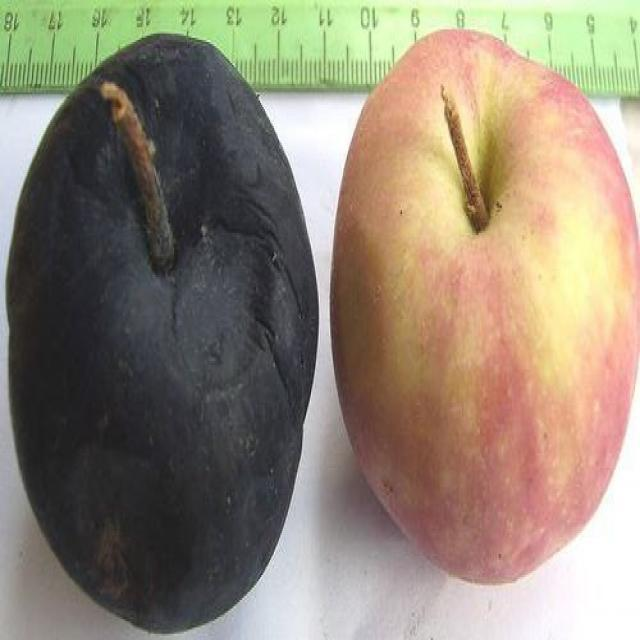Fresh Apple: (342, 36, 632, 602)
Rotten: (17, 36, 305, 622)
